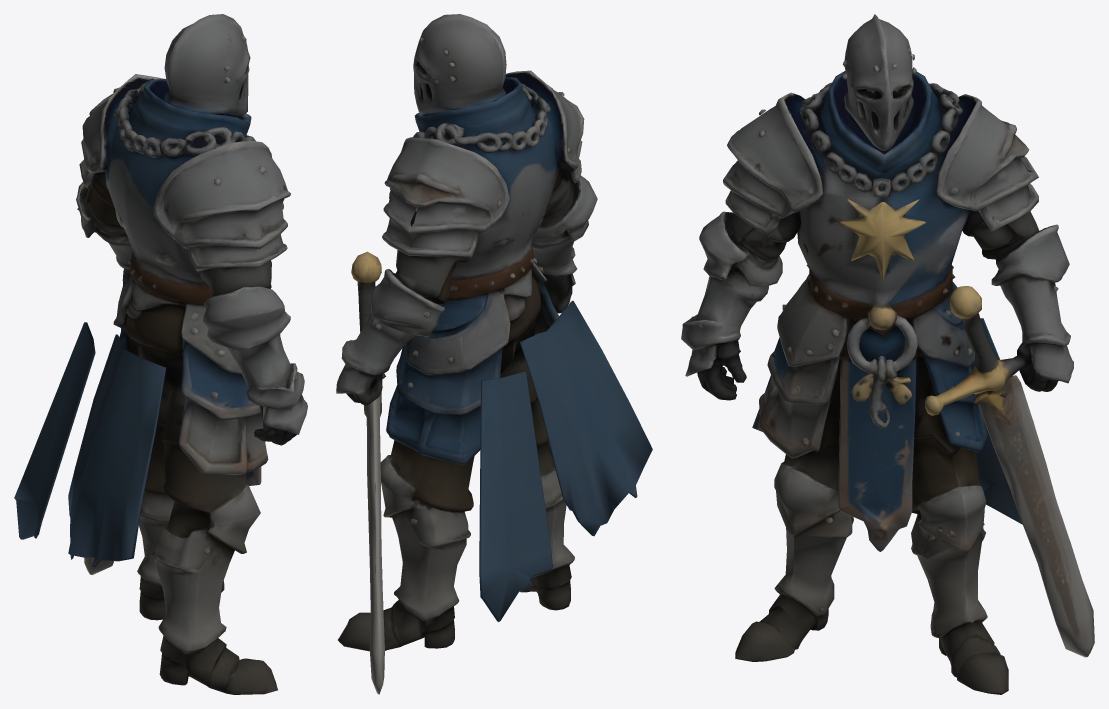
3 views of the same model, side by side, from view 1: azimuth 30°, elevation 25°; view 2: azimuth 150°, elevation 25°; view 3: azimuth 270°, elevation 25° (orthographic). The views are drawn at different scales.
Visible parts, largest first — view 1: tripo_node_985c74f0-2432-4e2f-9bbe-100d484a2cd6; view 2: tripo_node_985c74f0-2432-4e2f-9bbe-100d484a2cd6; view 3: tripo_node_985c74f0-2432-4e2f-9bbe-100d484a2cd6.
Boxes of the visible parts, x1,y1,x2,y2 form: tripo_node_985c74f0-2432-4e2f-9bbe-100d484a2cd6: (14,14,307,694); tripo_node_985c74f0-2432-4e2f-9bbe-100d484a2cd6: (336,14,652,694); tripo_node_985c74f0-2432-4e2f-9bbe-100d484a2cd6: (681,14,1094,694).
Size of the model in its own units: 0.3757 by 1 by 0.5812.
1 material, 1 textured.
